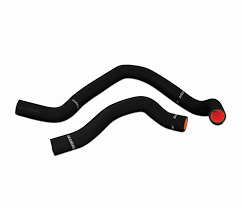radiator_hose: (16, 65, 227, 122), (50, 96, 186, 156)
